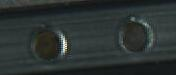joints: (27, 24, 68, 64), (114, 14, 154, 53)
